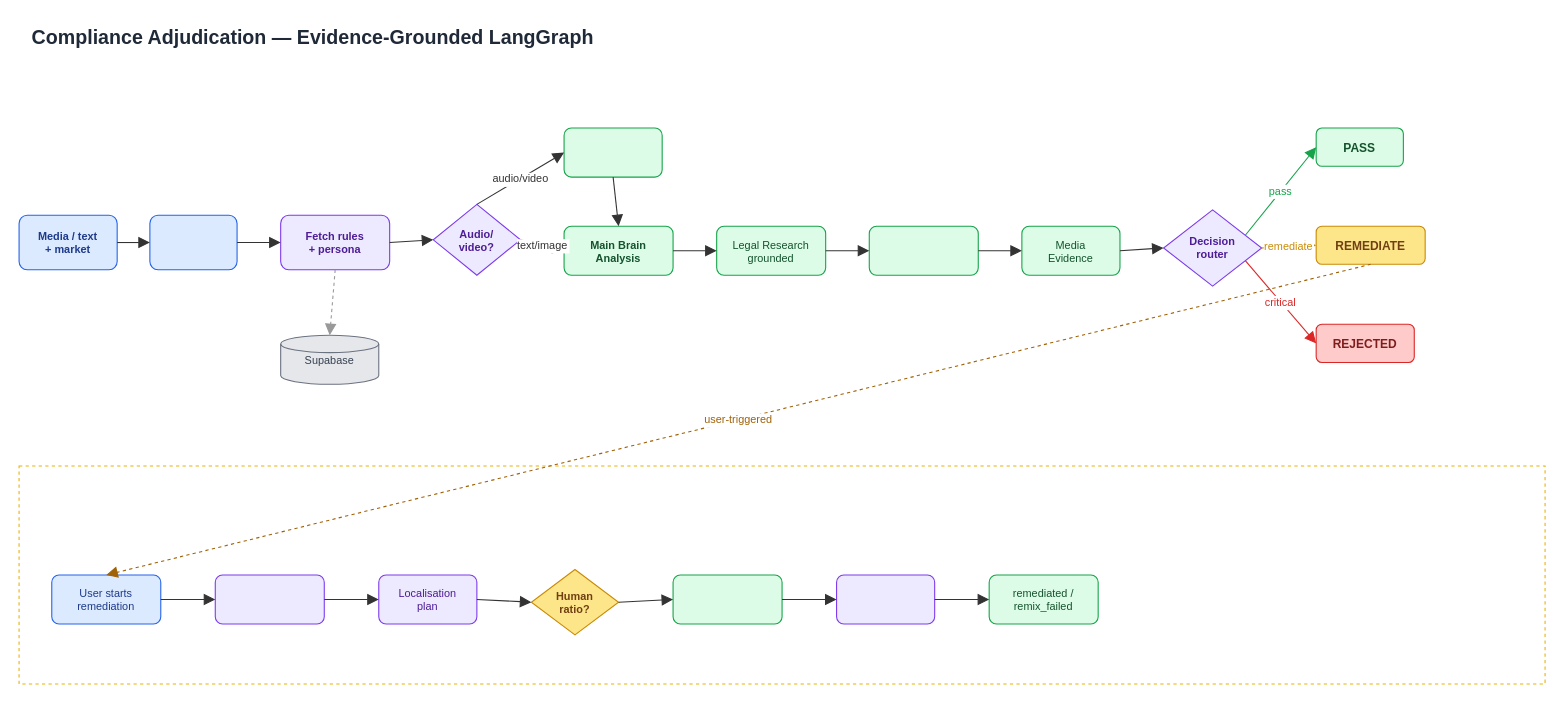
The diagram is 1564 pixels wide and 703 high, and some of its shapes have lost their labels. The box of each missing label's shape, as (x1, y1, x2, y2) in pixels:
FastAPI + SSE: (149, 214, 237, 270)
Fetch check result: (214, 574, 324, 624)
Grounded Compliance: (868, 225, 978, 275)
Media agent (one type): (672, 574, 782, 624)
REMEDIATION (separate, user-triggered): (18, 465, 1545, 684)
Transcribe Gemini: (563, 127, 662, 177)
Upload + finalise: (835, 574, 935, 624)
